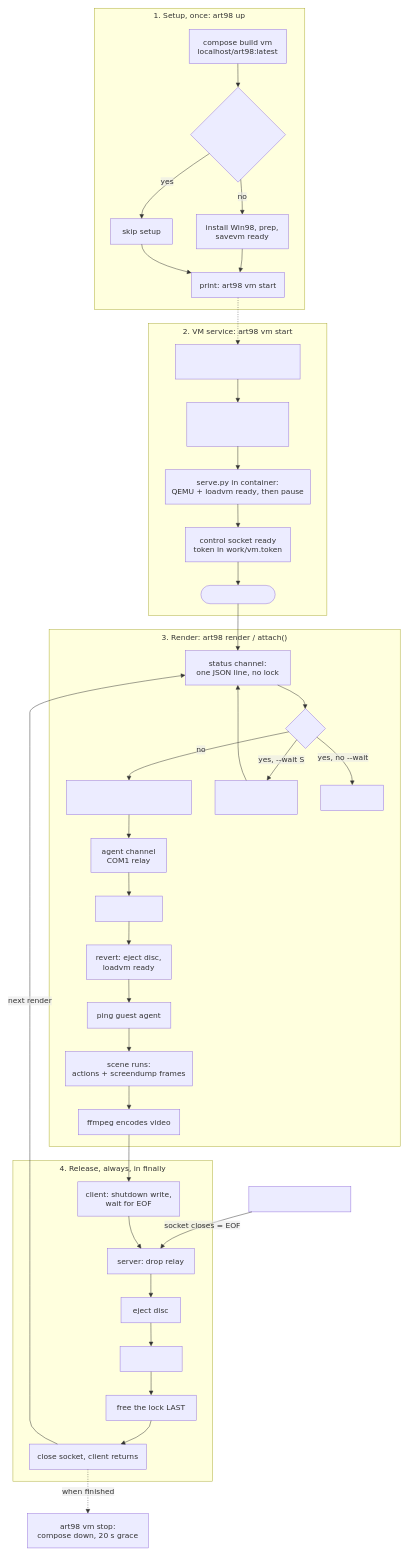
This 408x1556 diagram has some shape labels left out. Here are the shapes that lost their labels. From the top down, the centre of each, then its label:
At point 238,134: "work/image.json exists?".
At point 237,361: "read art98.toml image, work, ports".
At point 237,424: "docker compose up -d --wait vm, one project per work folder".
At point 237,594: "VM up and paused".
At point 305,728: "busy?".
At point 129,797: "control channel = THE LOCK first connection wins".
At point 256,797: "retry every 0.5 s until deadline".
At point 352,798: "Busy error".
At point 128,908: "resume VM".
At point 299,1199: "render killed / crashed".
At point 151,1359: "pause VM".
